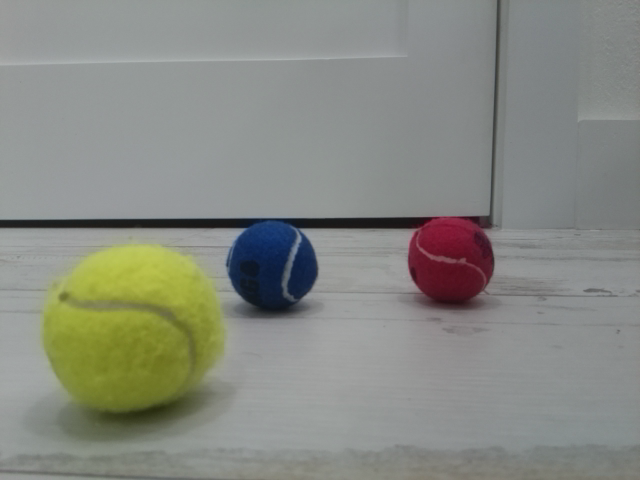blue-ball: (226, 219, 319, 312)
red-ball: (407, 215, 496, 305)
yellow-ball: (40, 241, 224, 416)
